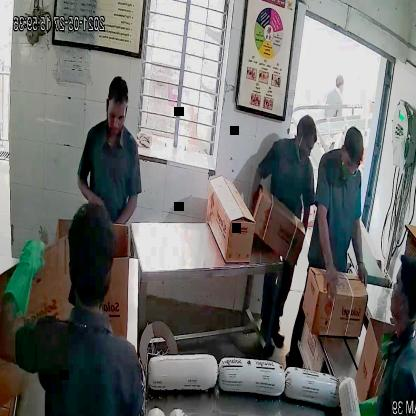no_goggles: (106, 104, 127, 124)
